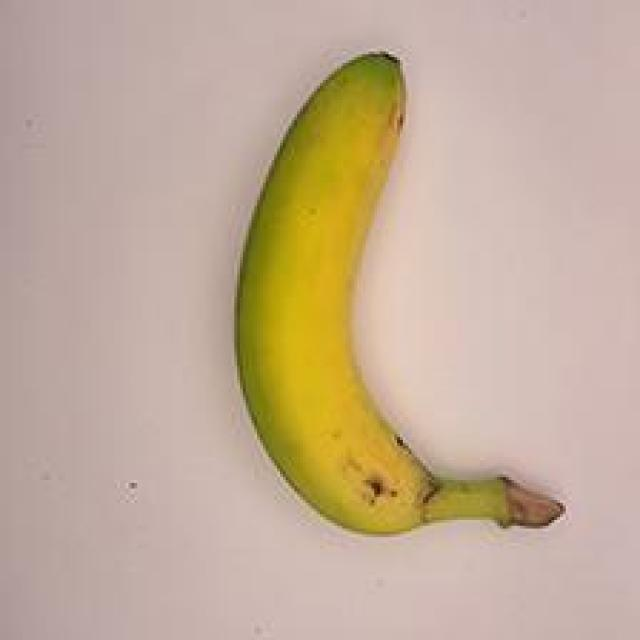unripe: (180, 35, 572, 555)
